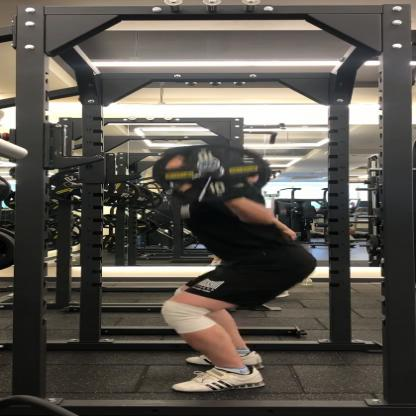Barbell: (138, 134, 283, 209)
